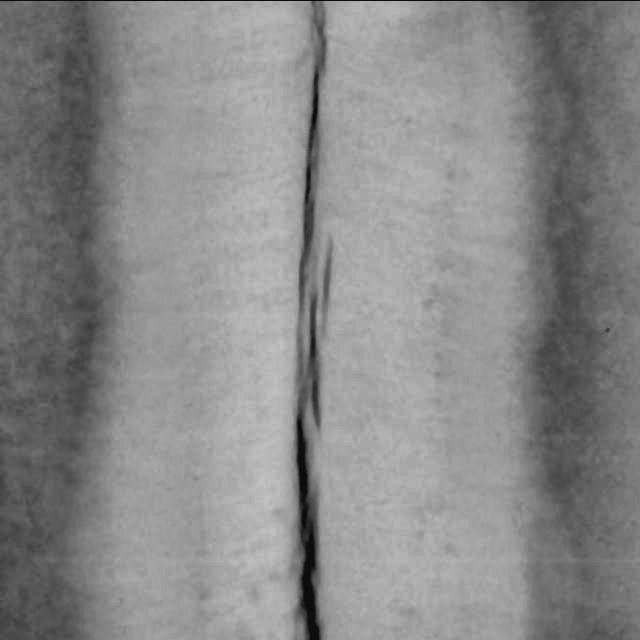LoP-LoF: (270, 0, 364, 637)
